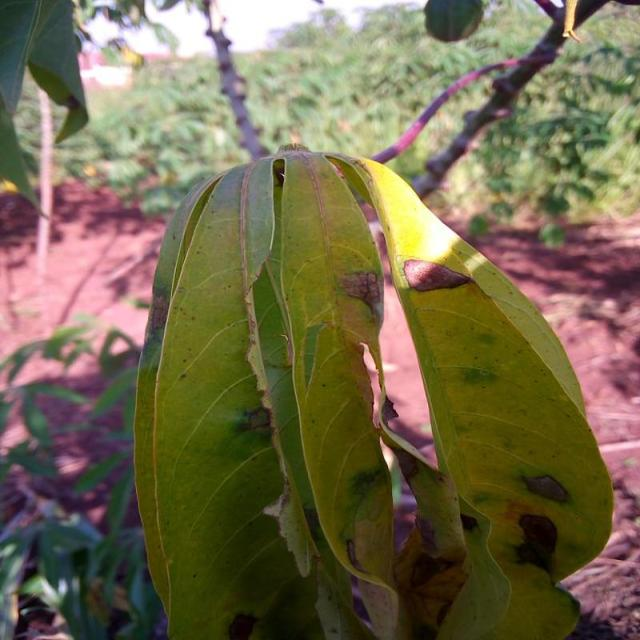cassava leaf: (132, 144, 614, 638)
